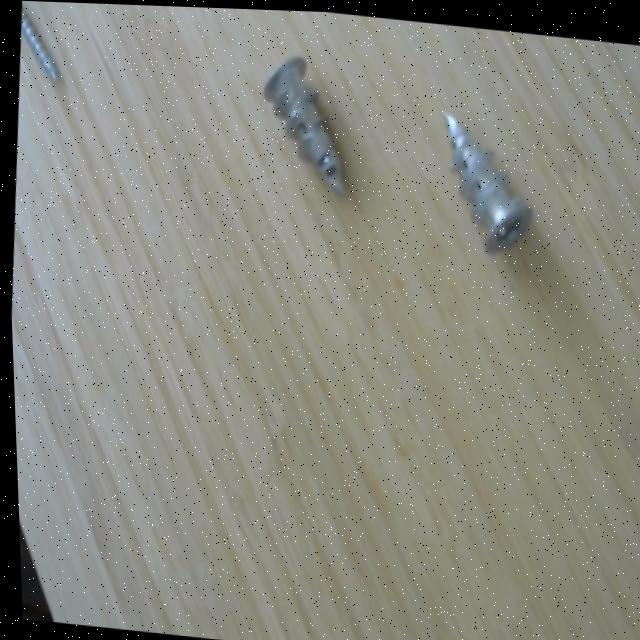Short screw: (425, 103, 544, 261), (250, 43, 360, 198)
